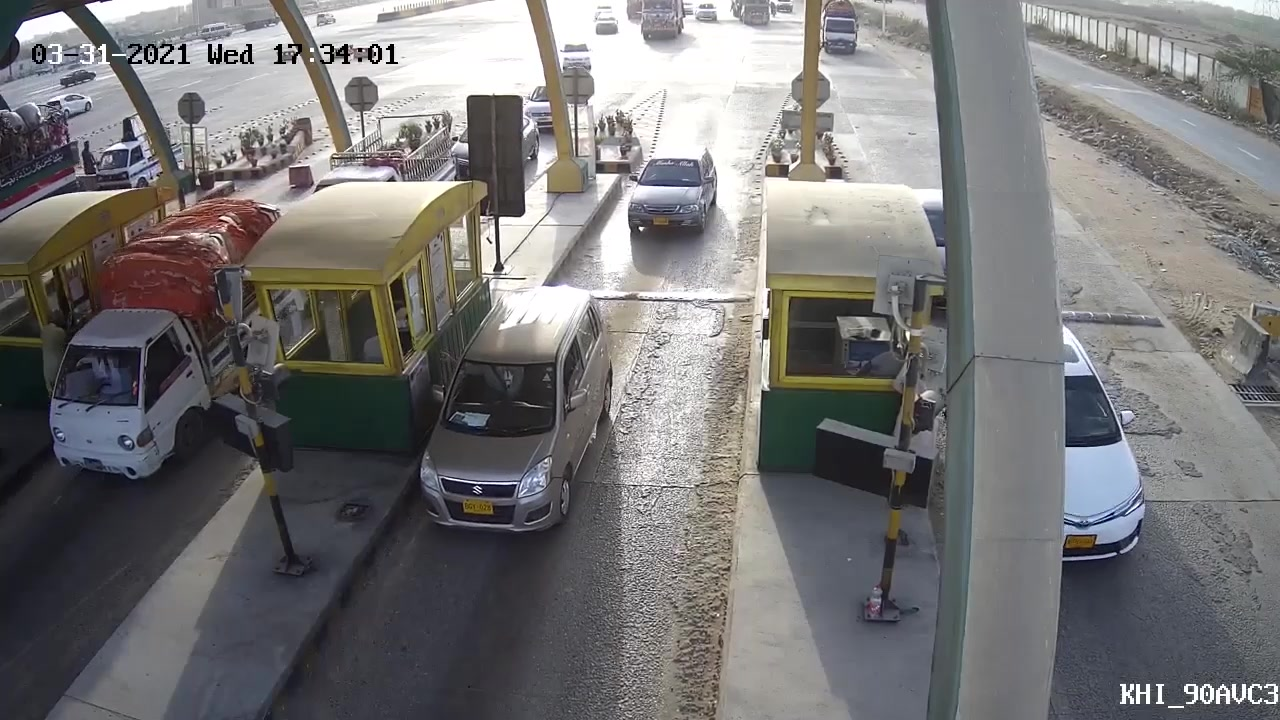F1: (418, 283, 613, 555)
